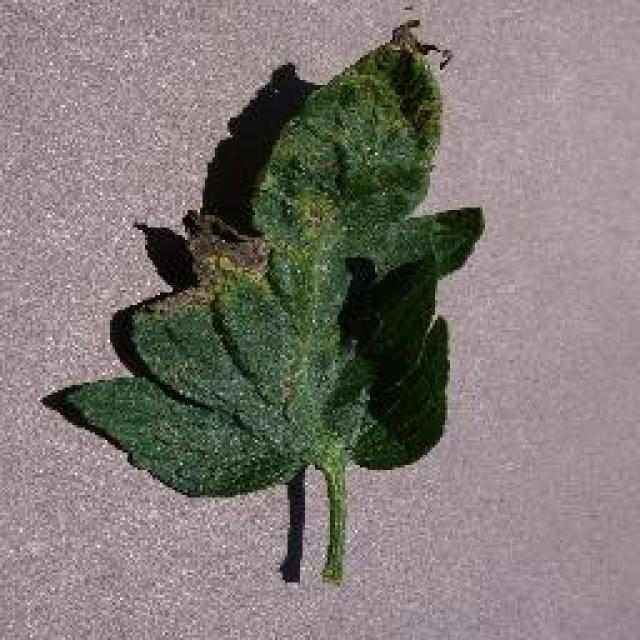Tom_Septoria_leaf_spot: (324, 6, 466, 202), (138, 192, 336, 332)
